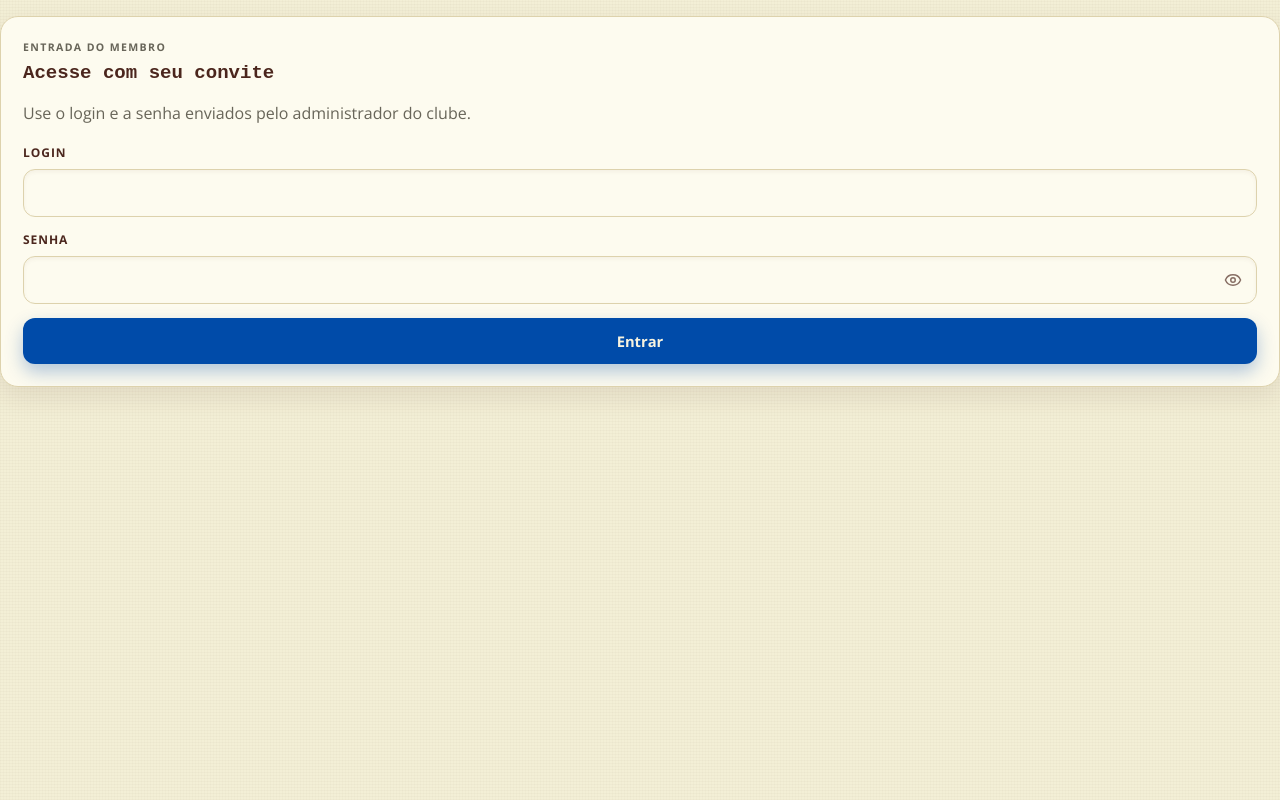
Scenario: LoginView › credenciais inválidas mostram erro e não autenticam
Step 1. Type "joao" into the field labelled "Login" → (640, 193), box [23,169,1257,217]
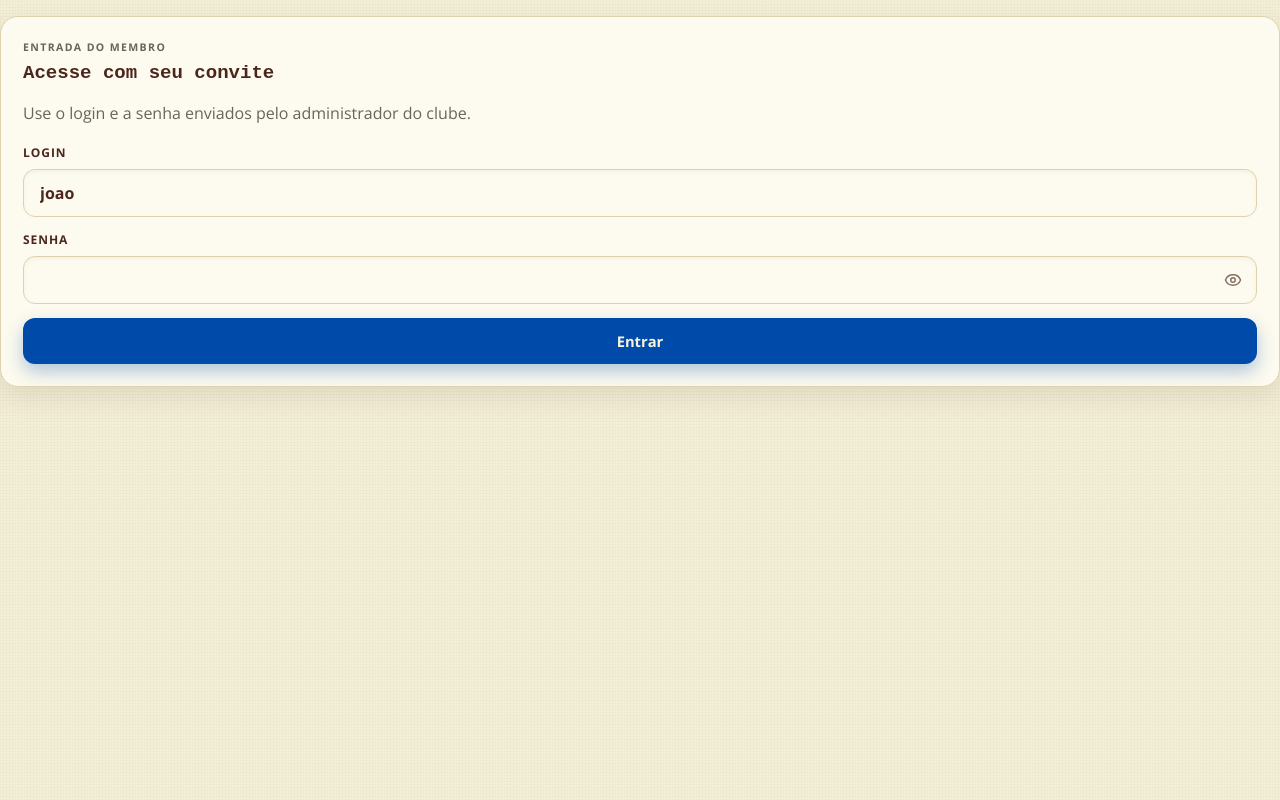
Step 2. Type "errada" into the password field labelled "Senha" → (640, 280), box [23,256,1257,304]
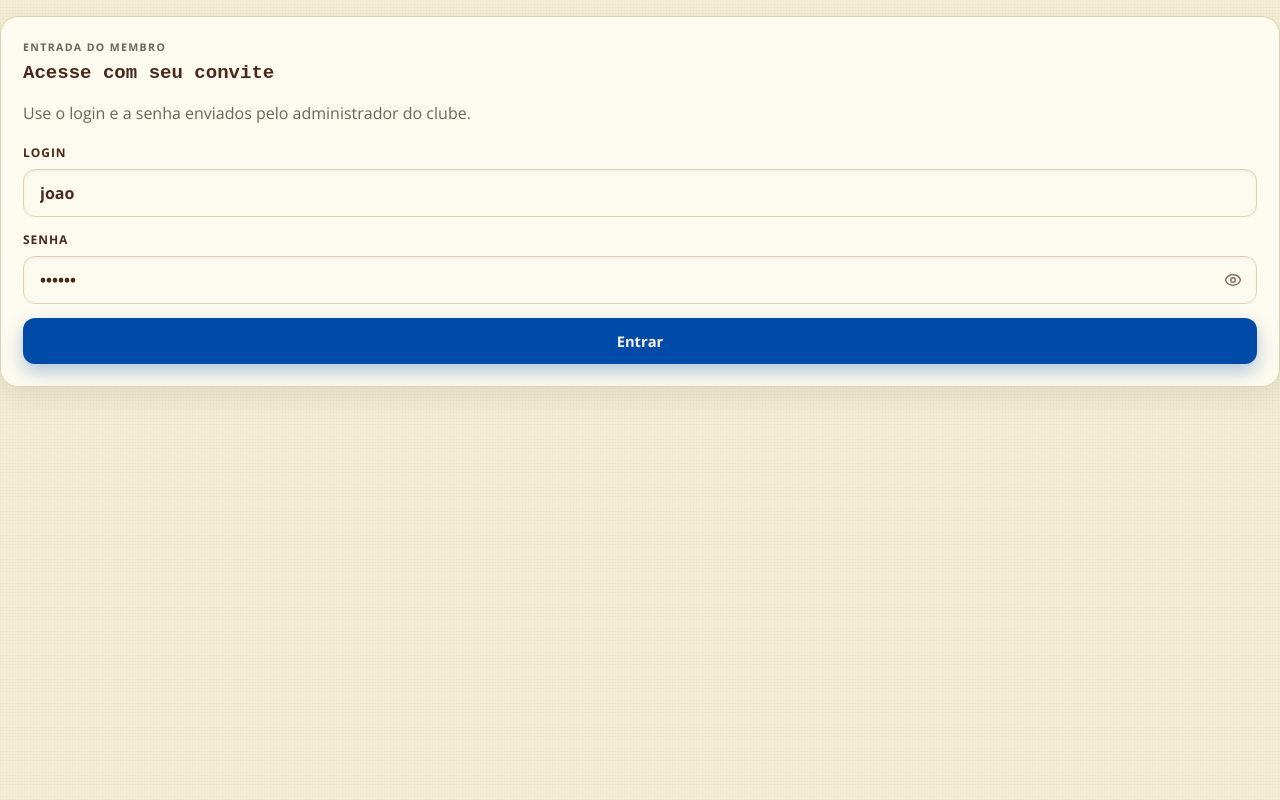
Step 3. Submit the form, box [23,144,1257,364]
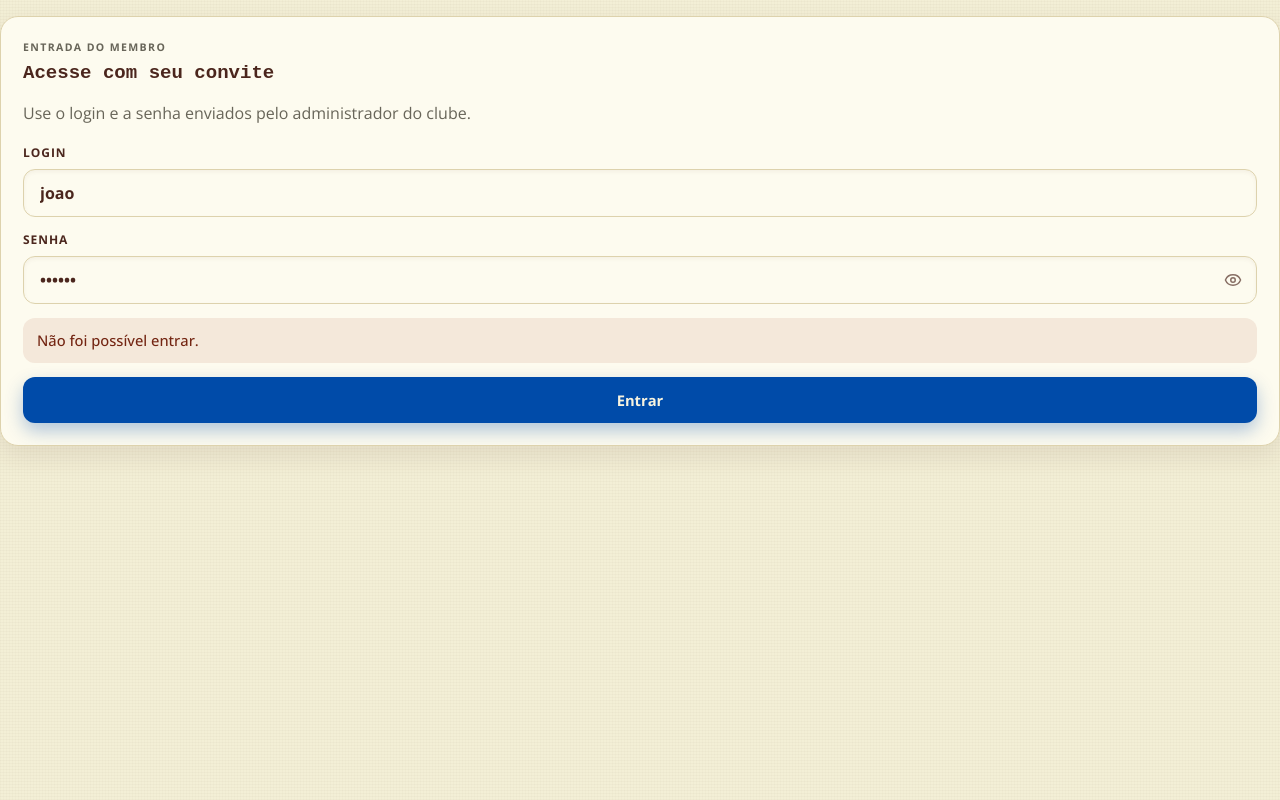
Expected: the text "Não foi possível entrar." is shown, [23,318,1257,363]
